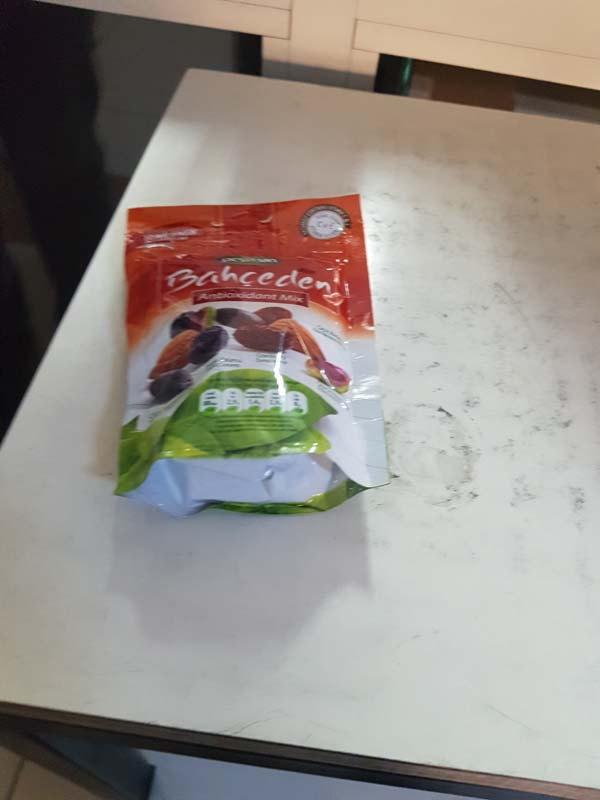bahcedenantioxidan: (112, 190, 400, 520)
